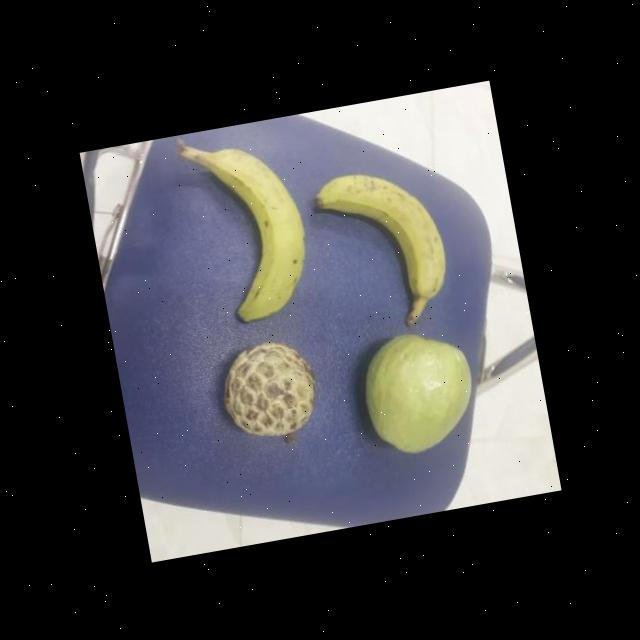Sakya fruit: (213, 331, 324, 452)
banana: (313, 159, 456, 348), (190, 136, 318, 332)
guava: (356, 322, 484, 462)
